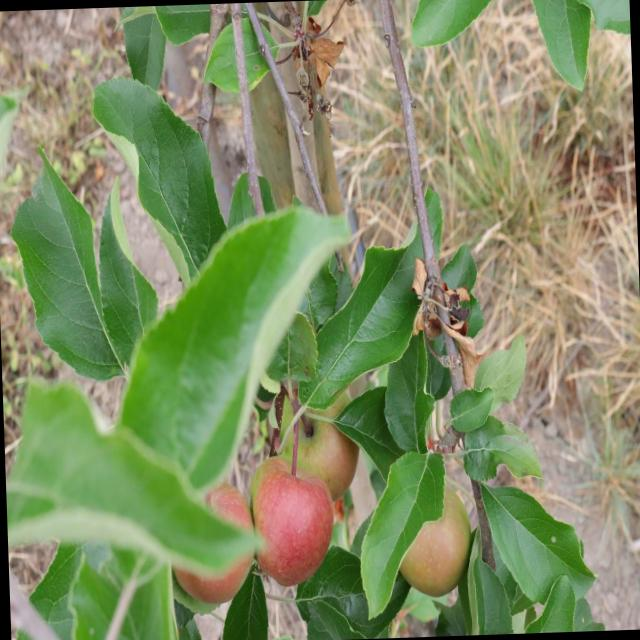-FireBlight-: (412, 257, 479, 390)
